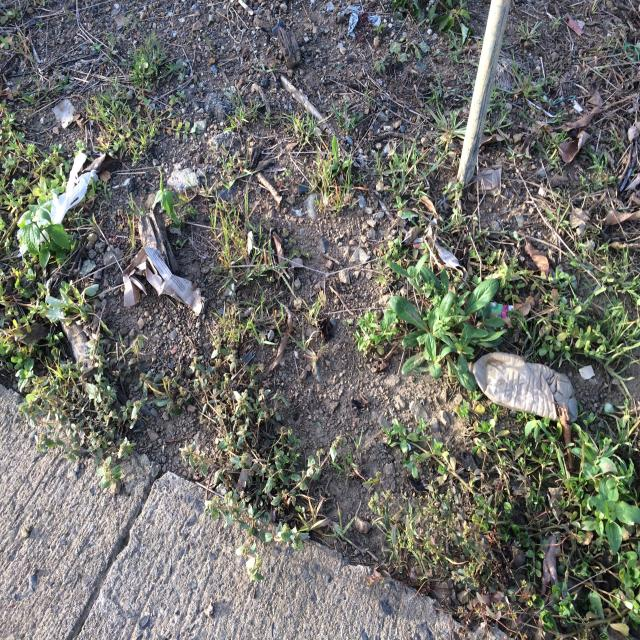litter: (470, 352, 579, 423), (121, 247, 203, 312)
